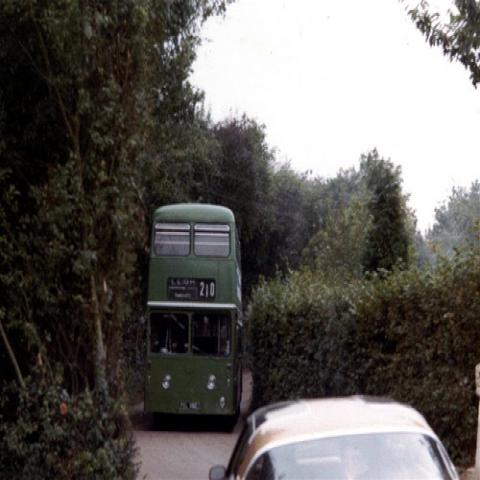bus: (143, 201, 243, 434)
car: (208, 395, 462, 476)
